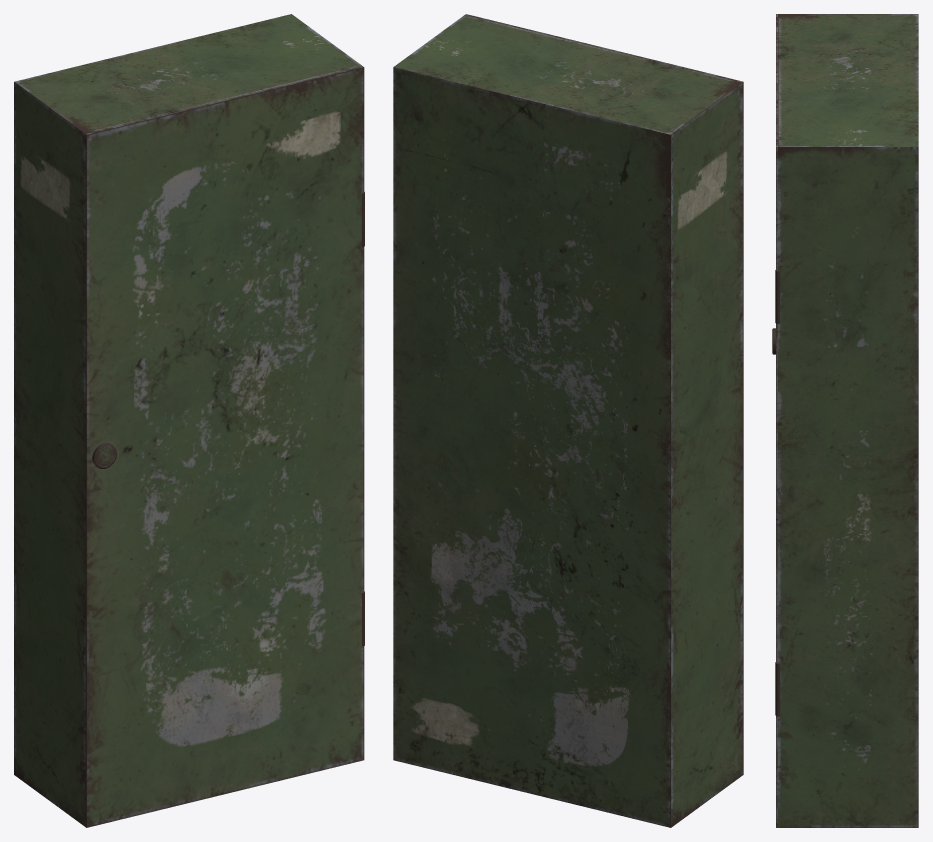
The model's file is MetalCabinet01.FBX.
3 views of the same model, side by side, from view 1: azimuth 30°, elevation 25°; view 2: azimuth 150°, elevation 25°; view 3: azimuth 270°, elevation 25° (orthographic).
Visible parts, largest first — view 1: CabinetDoor, Cabinet; view 2: Cabinet, CabinetDoor; view 3: Cabinet, CabinetDoor.
Part boxes in pixels (<box>): CabinetDoor: <box>85,66,364,827</box>; Cabinet: <box>14,14,364,826</box>; Cabinet: <box>393,15,742,827</box>; CabinetDoor: <box>465,14,743,774</box>; Cabinet: <box>775,14,918,827</box>; CabinetDoor: <box>772,14,777,827</box>.
Size of the model in its own units: 73.08 by 173 by 33.75.
